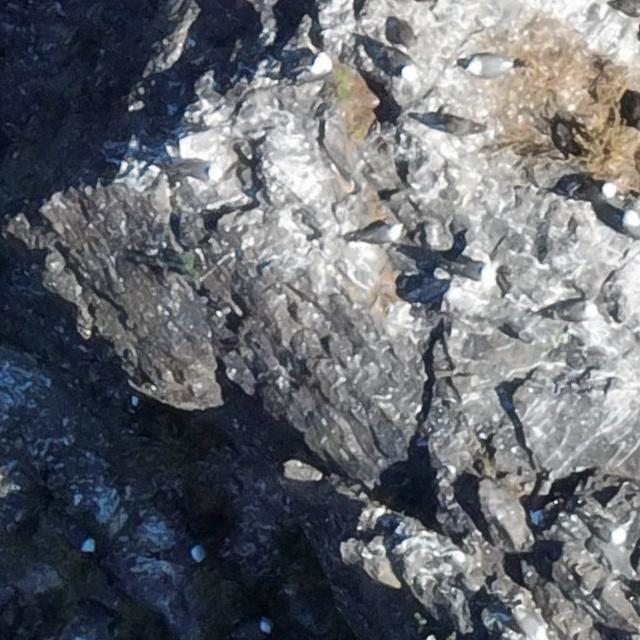umineko: (381, 44, 420, 82), (296, 52, 338, 87), (512, 599, 548, 639), (585, 513, 626, 546), (63, 517, 96, 557), (157, 543, 207, 566), (179, 160, 224, 183), (573, 182, 618, 203), (450, 260, 494, 280), (468, 56, 509, 76), (232, 618, 270, 638), (553, 302, 592, 321), (361, 225, 398, 243), (622, 211, 639, 237)
